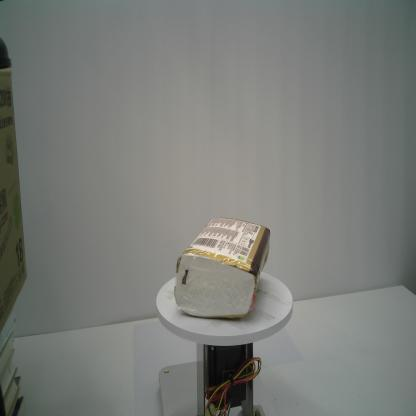Tissue: (174, 217, 271, 319)
